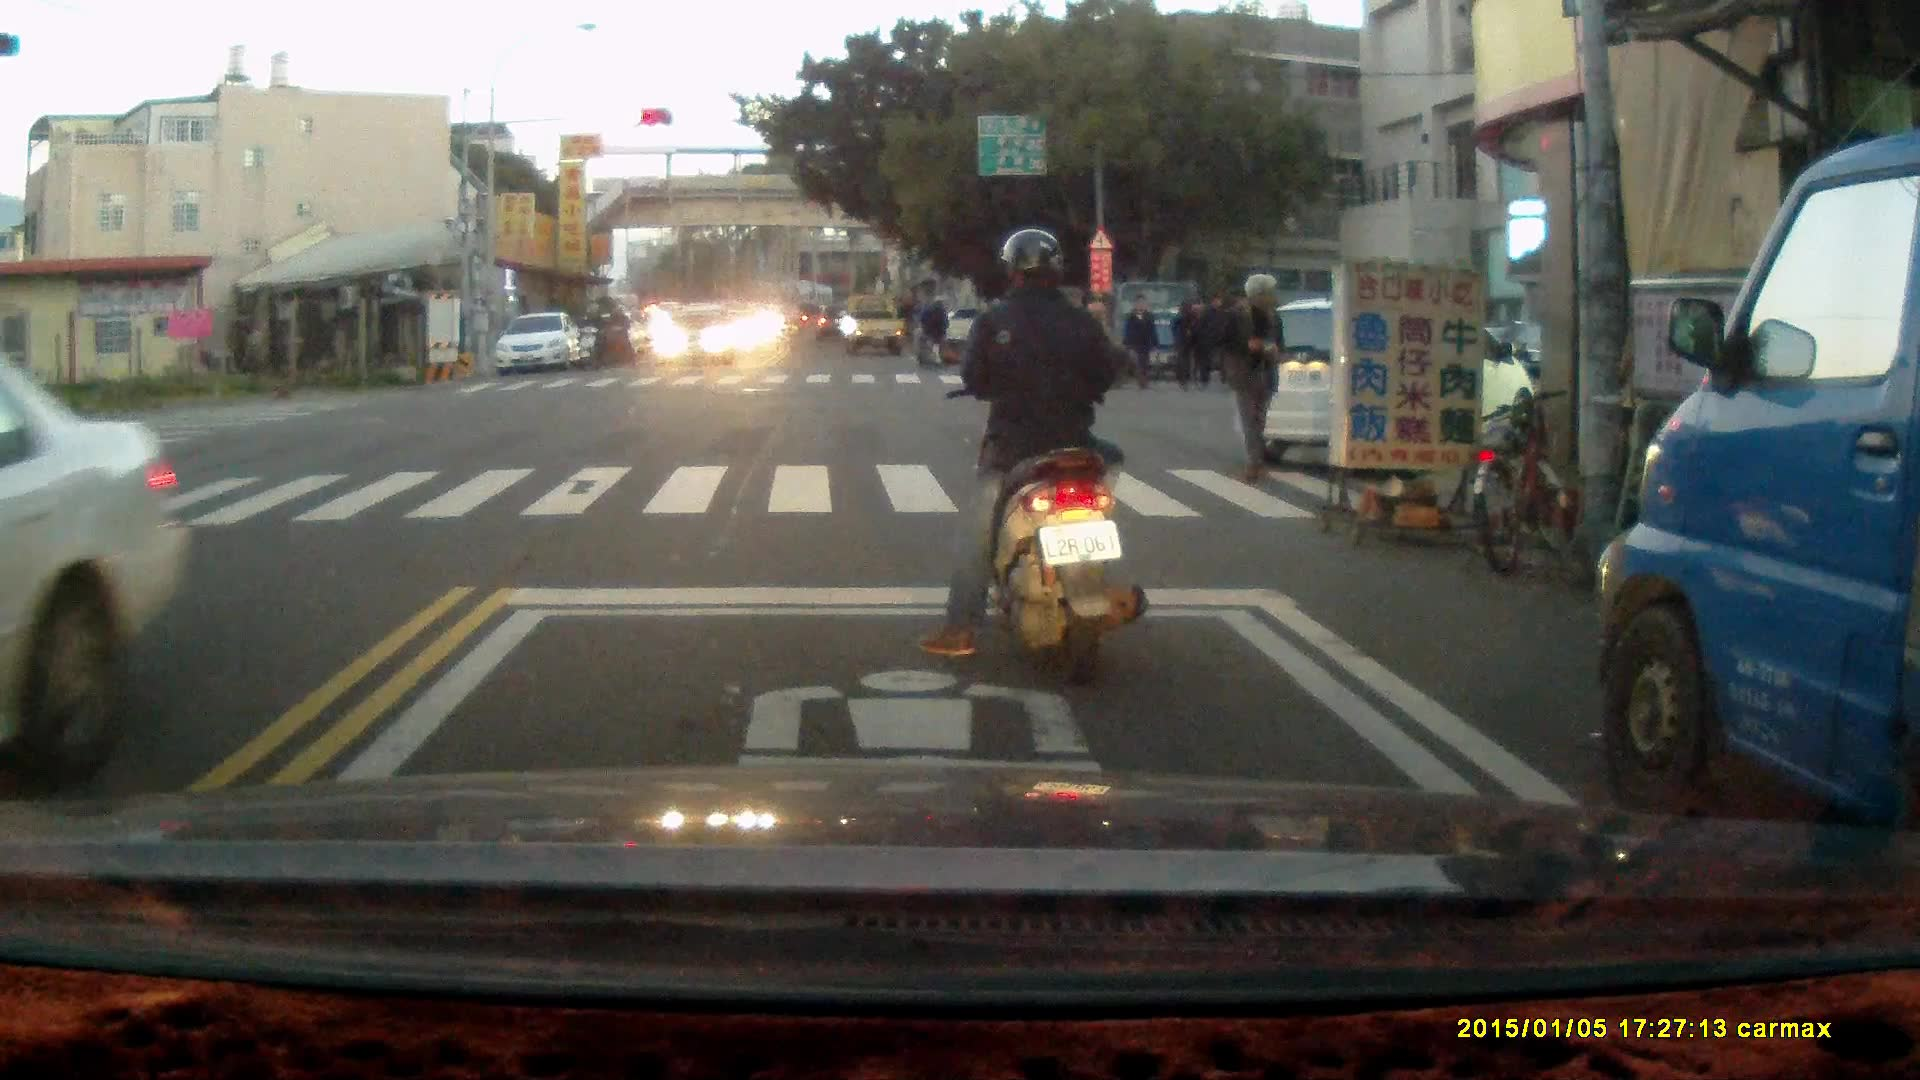pedestrian: (1216, 272, 1290, 483), (1120, 291, 1161, 392), (1169, 292, 1203, 391)
rider: (918, 225, 1149, 686), (911, 291, 949, 366), (577, 301, 612, 372), (595, 300, 631, 367)
vehicle: (1596, 120, 1920, 901), (1, 354, 194, 805), (1236, 303, 1533, 462), (651, 300, 743, 369), (493, 311, 584, 378), (840, 295, 904, 357)
